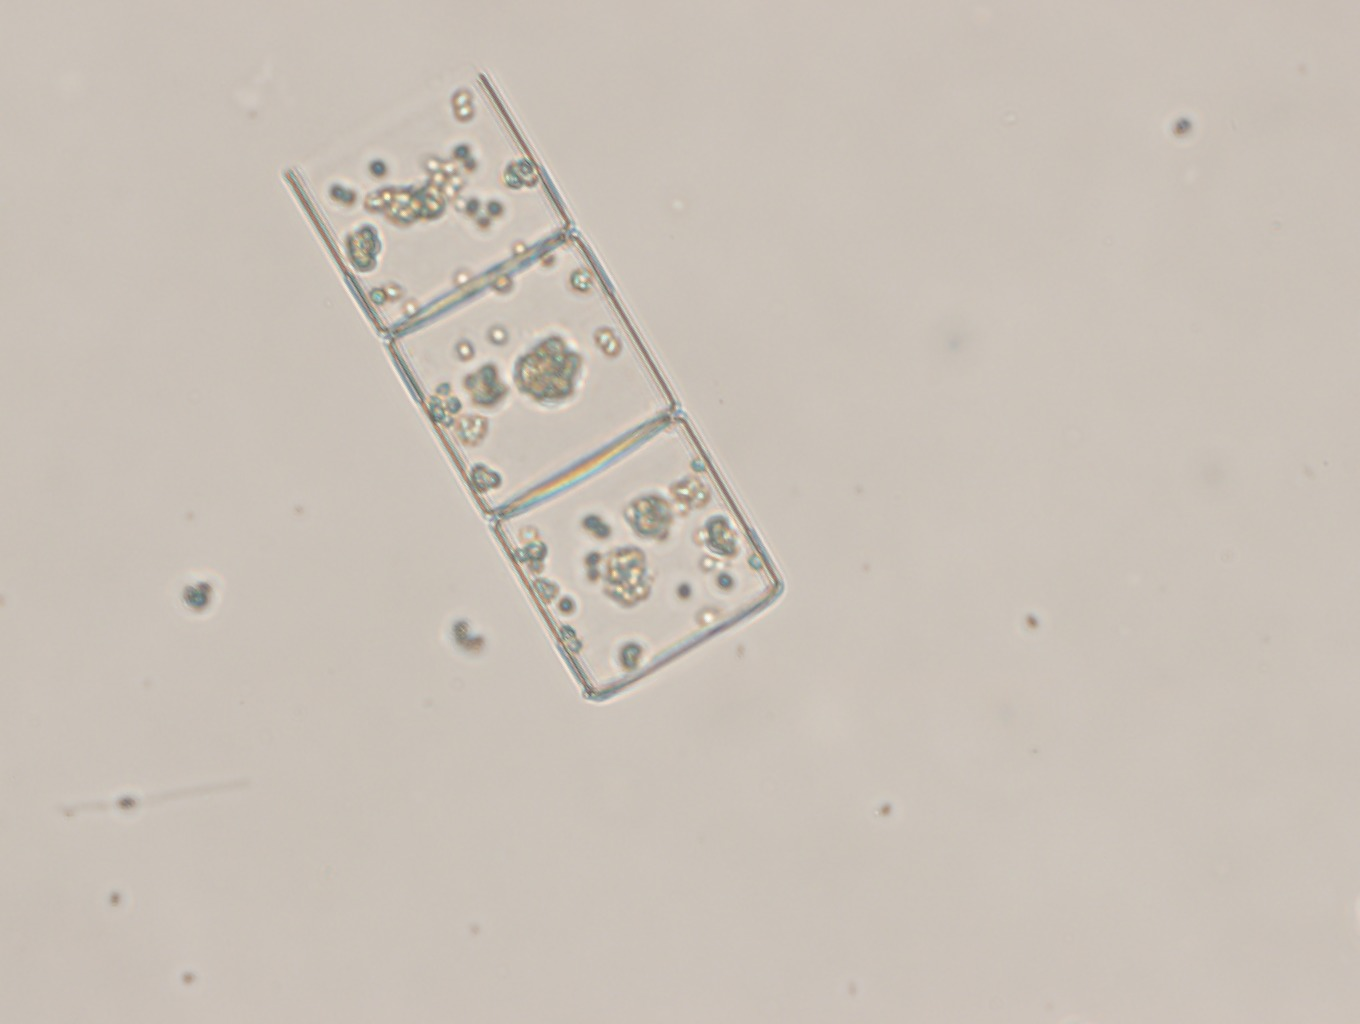guinardia flaccida: (261, 60, 792, 711)
